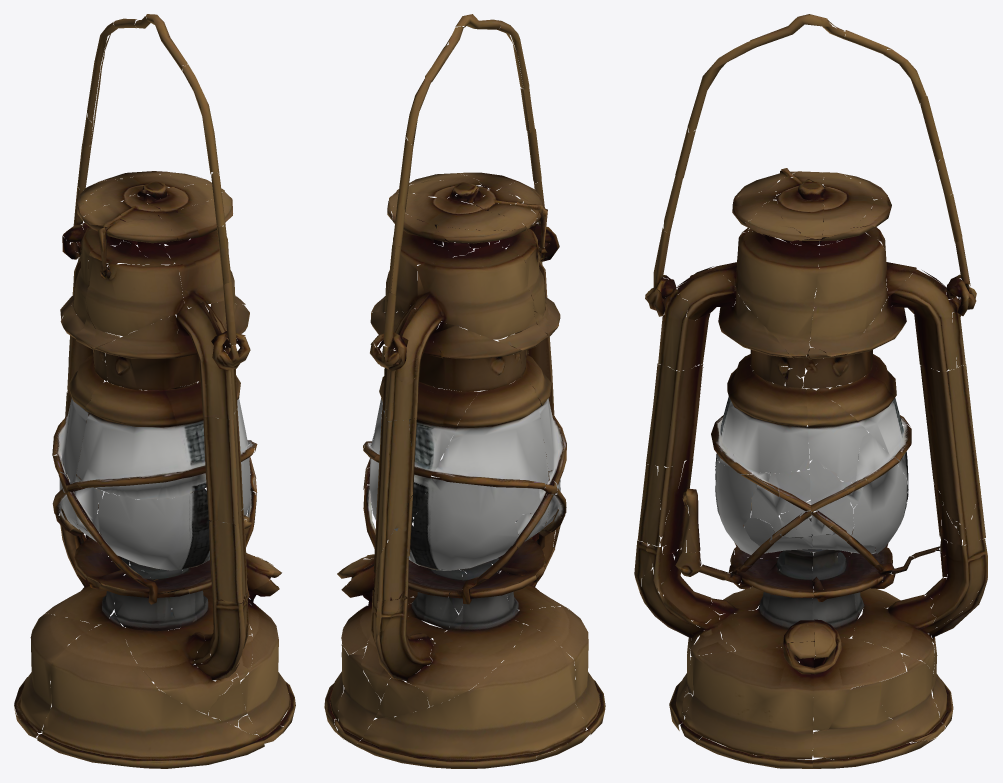
Rendered from Prop_Flashlight_Ch2_Lantern.glb.
3 renders of one model, left to right at view 1: azimuth 30°, elevation 25°; view 2: azimuth 150°, elevation 25°; view 3: azimuth 270°, elevation 25°, orthographic.
Visible parts, largest first — view 1: tripo_node_1fc34e78-e1cf-43b9-9336-7fc97a7f16ce; view 2: tripo_node_1fc34e78-e1cf-43b9-9336-7fc97a7f16ce; view 3: tripo_node_1fc34e78-e1cf-43b9-9336-7fc97a7f16ce.
Part boxes in pixels (x1=…): tripo_node_1fc34e78-e1cf-43b9-9336-7fc97a7f16ce: x1=14, y1=14, x2=295, y2=768; tripo_node_1fc34e78-e1cf-43b9-9336-7fc97a7f16ce: x1=324, y1=14, x2=605, y2=768; tripo_node_1fc34e78-e1cf-43b9-9336-7fc97a7f16ce: x1=634, y1=14, x2=987, y2=768.
Size of the model in its own units: 0.37 by 1 by 0.4611.
1 material, 1 textured.
